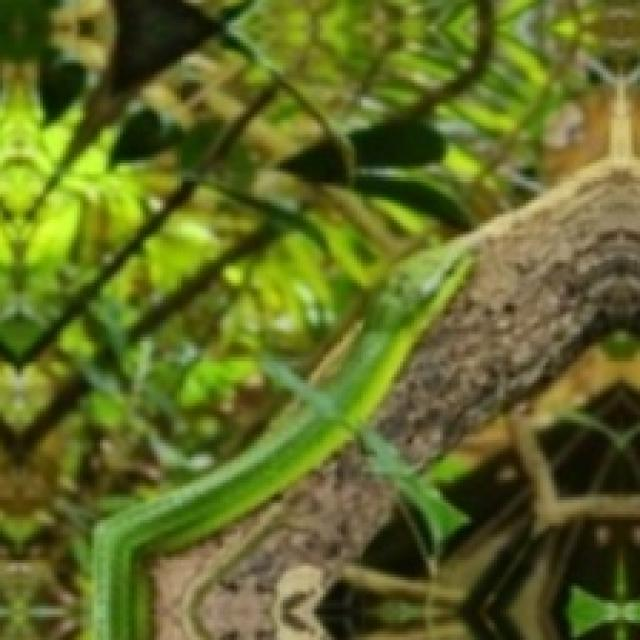red-tailed green ratsnake: (92, 245, 468, 639)
